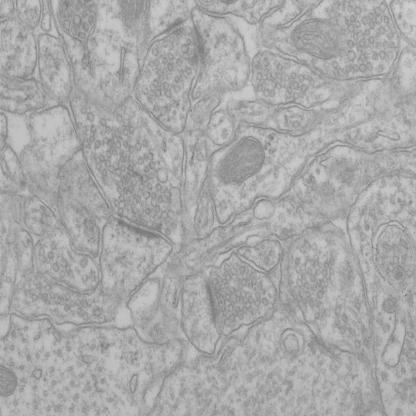mitochondria: (216, 134, 267, 189), (292, 16, 342, 60), (0, 362, 18, 400)
